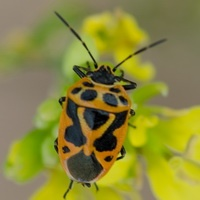insect: (54, 12, 165, 198)
